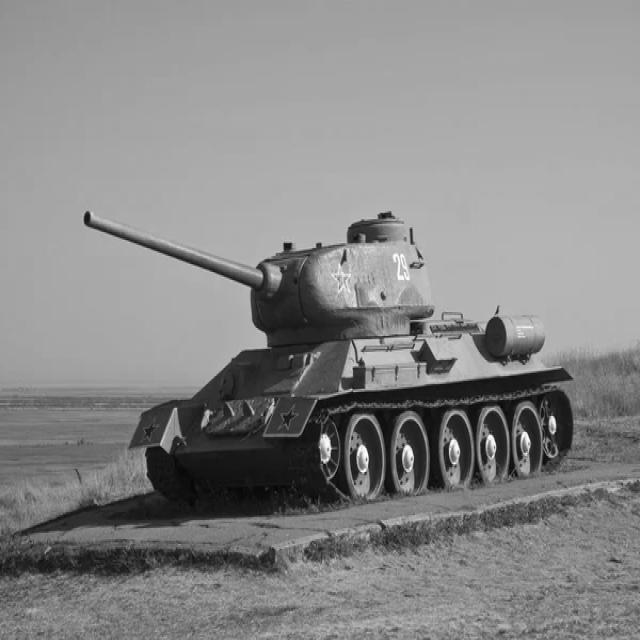Tank: (81, 213, 578, 499)
